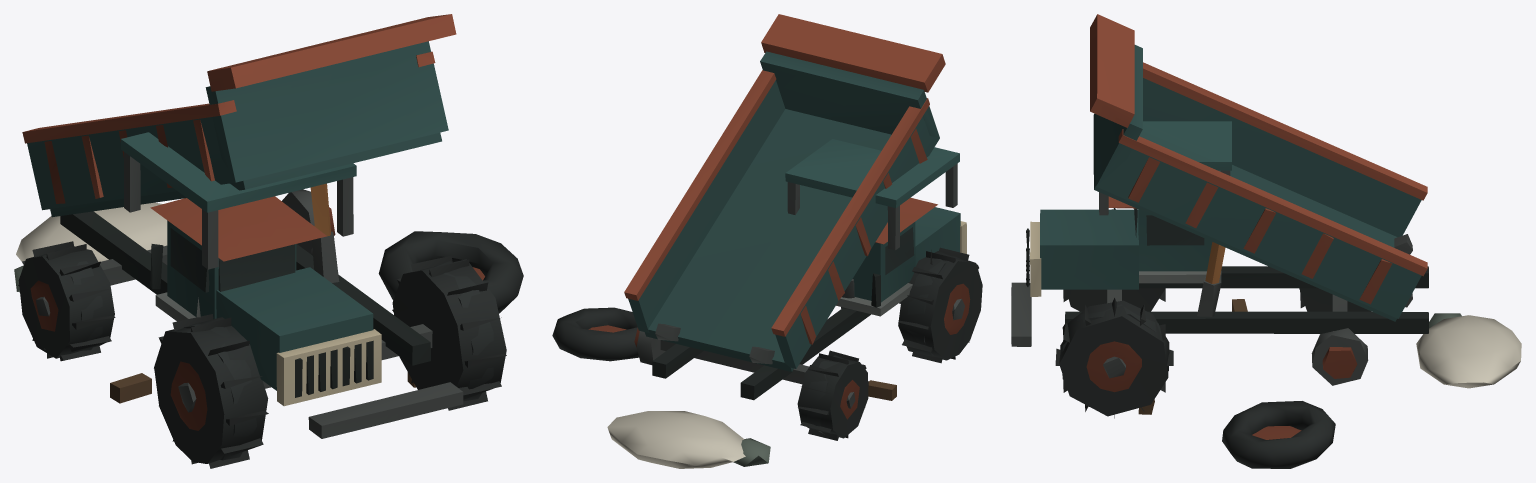
Rendered from haul_truck_b_lod2.glb.
3 views of the same model, side by side, from view 1: azimuth 30°, elevation 25°; view 2: azimuth 150°, elevation 25°; view 3: azimuth 270°, elevation 25° (orthographic). The views are drawn at different scales.
Visible parts, largest first — view 1: Surface.001; view 2: Surface.001; view 3: Surface.001.
Part boxes in pixels (box(x1,y1,x2,y2)): Surface.001: box(14, 14, 523, 468); Surface.001: box(552, 14, 982, 468); Surface.001: box(1011, 14, 1521, 468).
Bounding box in the file's own units: 10.97 × 9.64 × 14.26.
